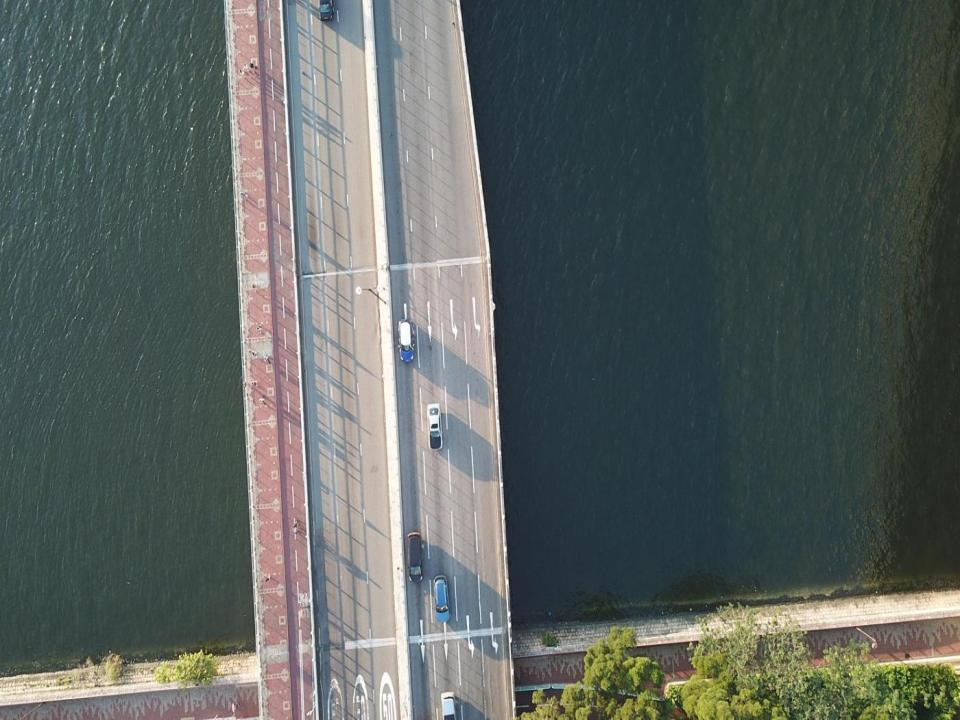car: (433, 575, 450, 624), (426, 401, 442, 451), (398, 317, 414, 364), (318, 0, 336, 23)
van: (407, 530, 423, 583), (440, 691, 456, 719)
